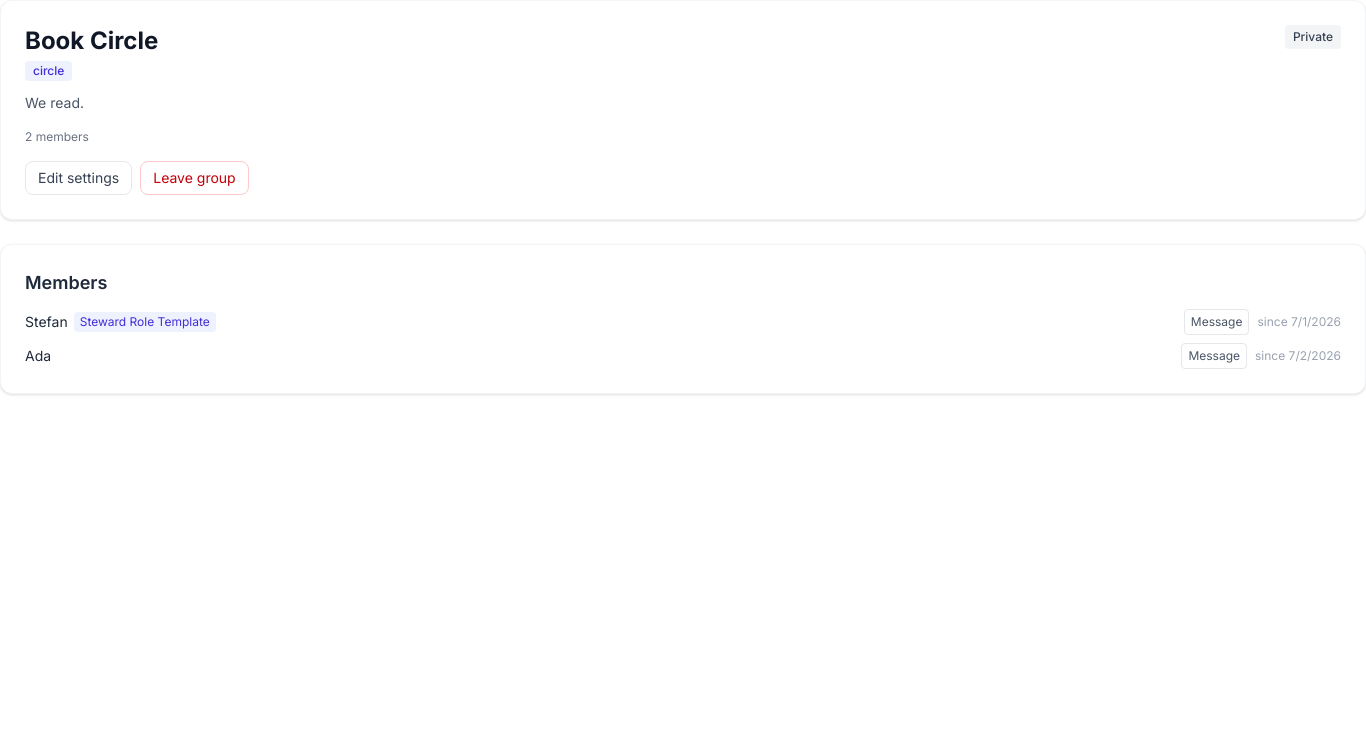
Test case: FEAT-H013 — GroupDetailPanel (STORY-2/3/4) › keeps the form state and surfaces the error when a save fails — never destructive
Click the button "Edit settings". click: click(79, 178)
box: left=25, top=161, right=132, bottom=195
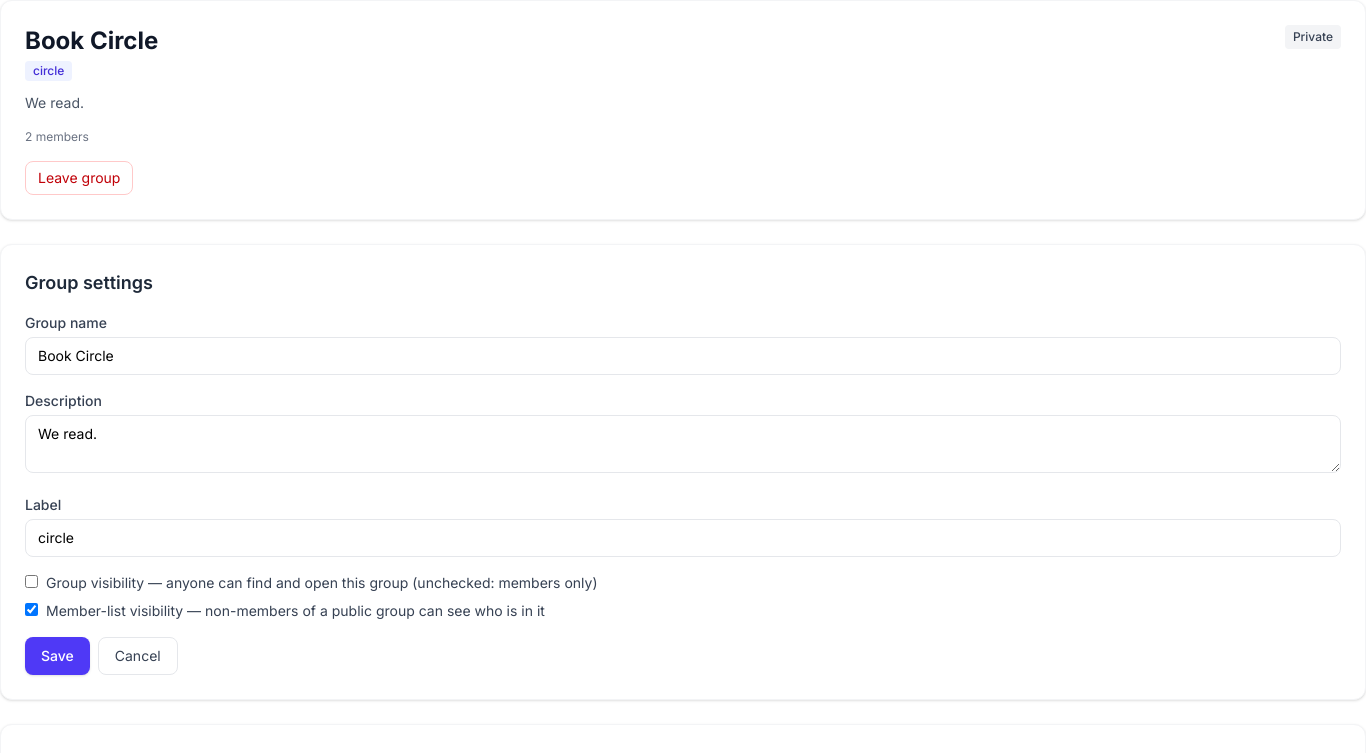
Replace the text in the field labelled "Group name" with "Hijack Attempt". click: (683, 356)
box: left=25, top=337, right=1341, bottom=375
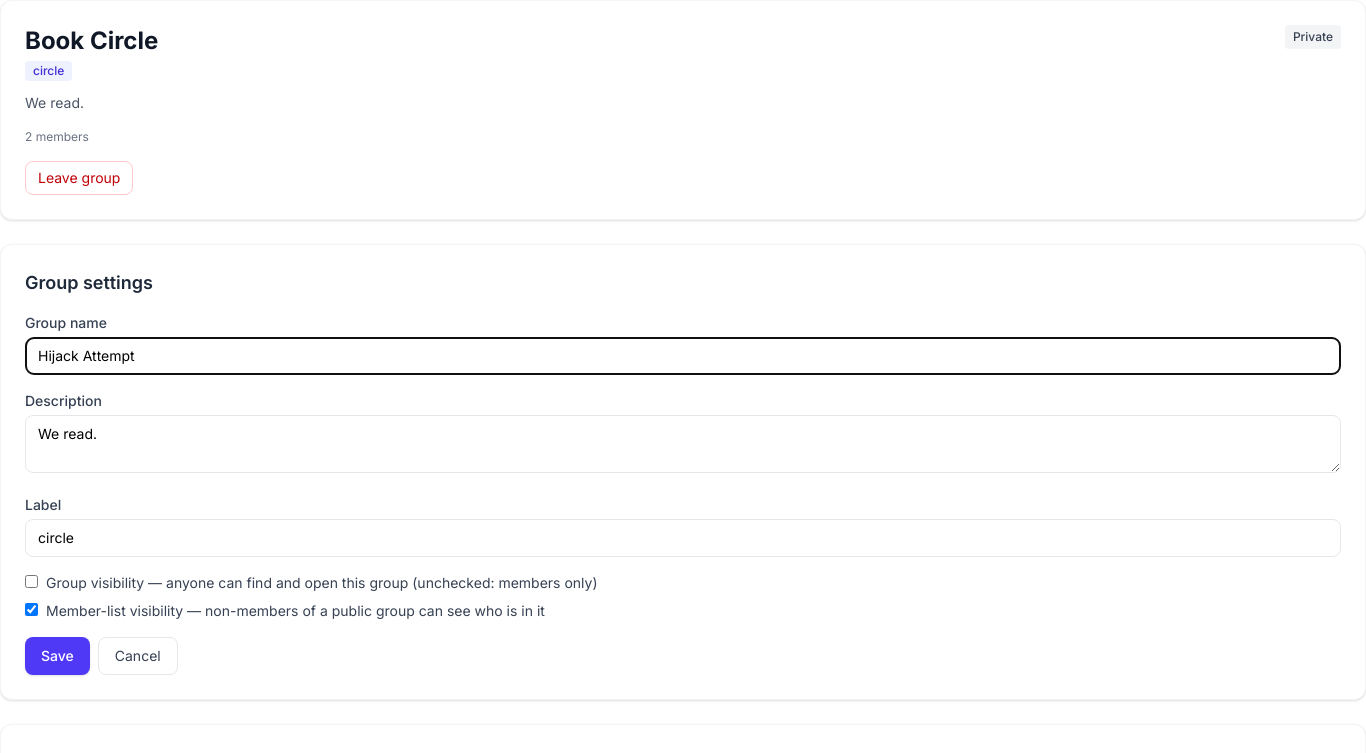
Click the button "Save". click: click(57, 656)
box: left=25, top=637, right=90, bottom=675
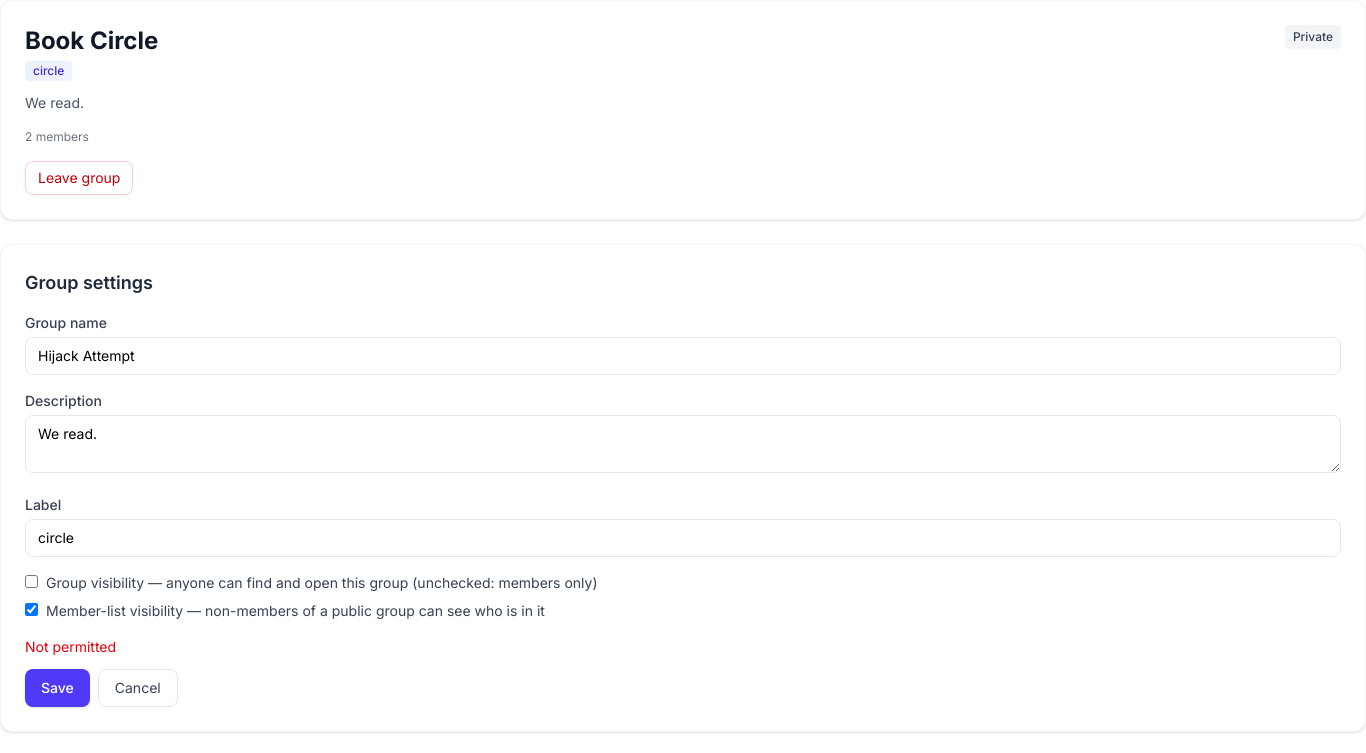
Check: the text "Not permitted" is shown, box left=25, top=638, right=116, bottom=655
